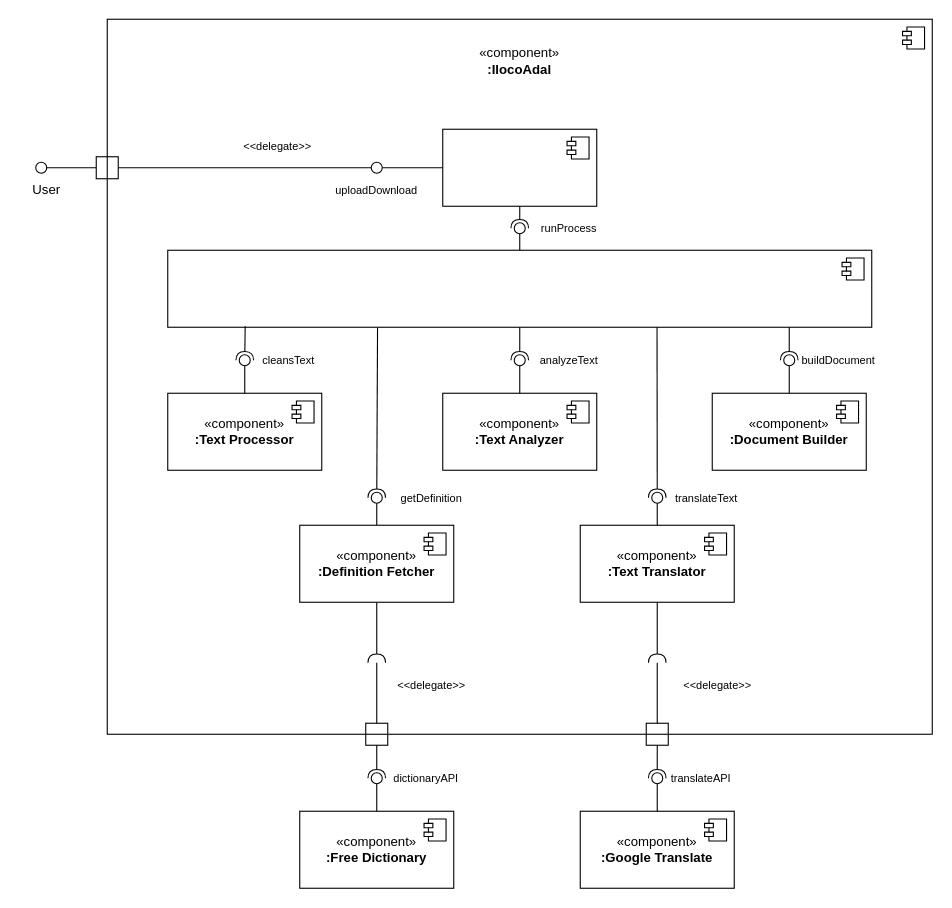
The diagram is 952 pixels wide and 908 high, and some of its shapes have lost their labels. Each missing label, with the centre of its shape:
«component» :Process Manager: pixel 519 288
«component» :UI Module: pixel 519 167
